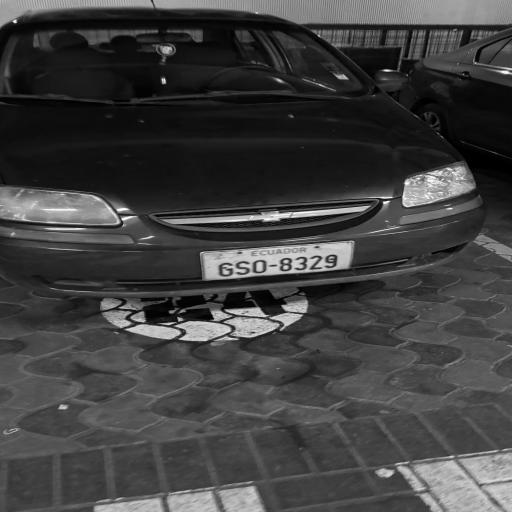license_plate: (201, 241, 353, 280)
